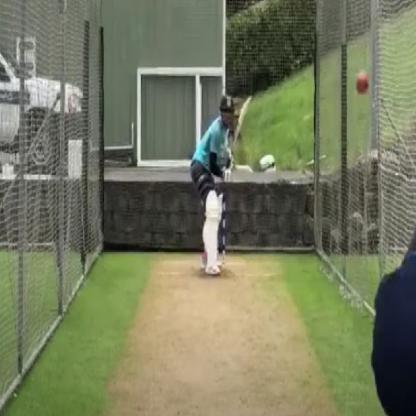ball: (354, 70, 370, 102)
